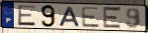9: (40, 4, 58, 28), (125, 7, 142, 29)
A: (58, 6, 82, 28)
E: (102, 6, 122, 31), (81, 6, 102, 29), (17, 4, 37, 27)
